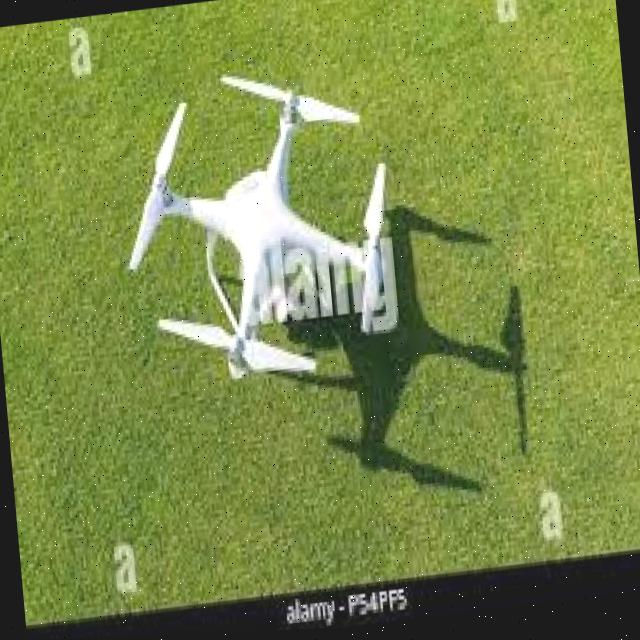drone: (100, 41, 448, 437)
